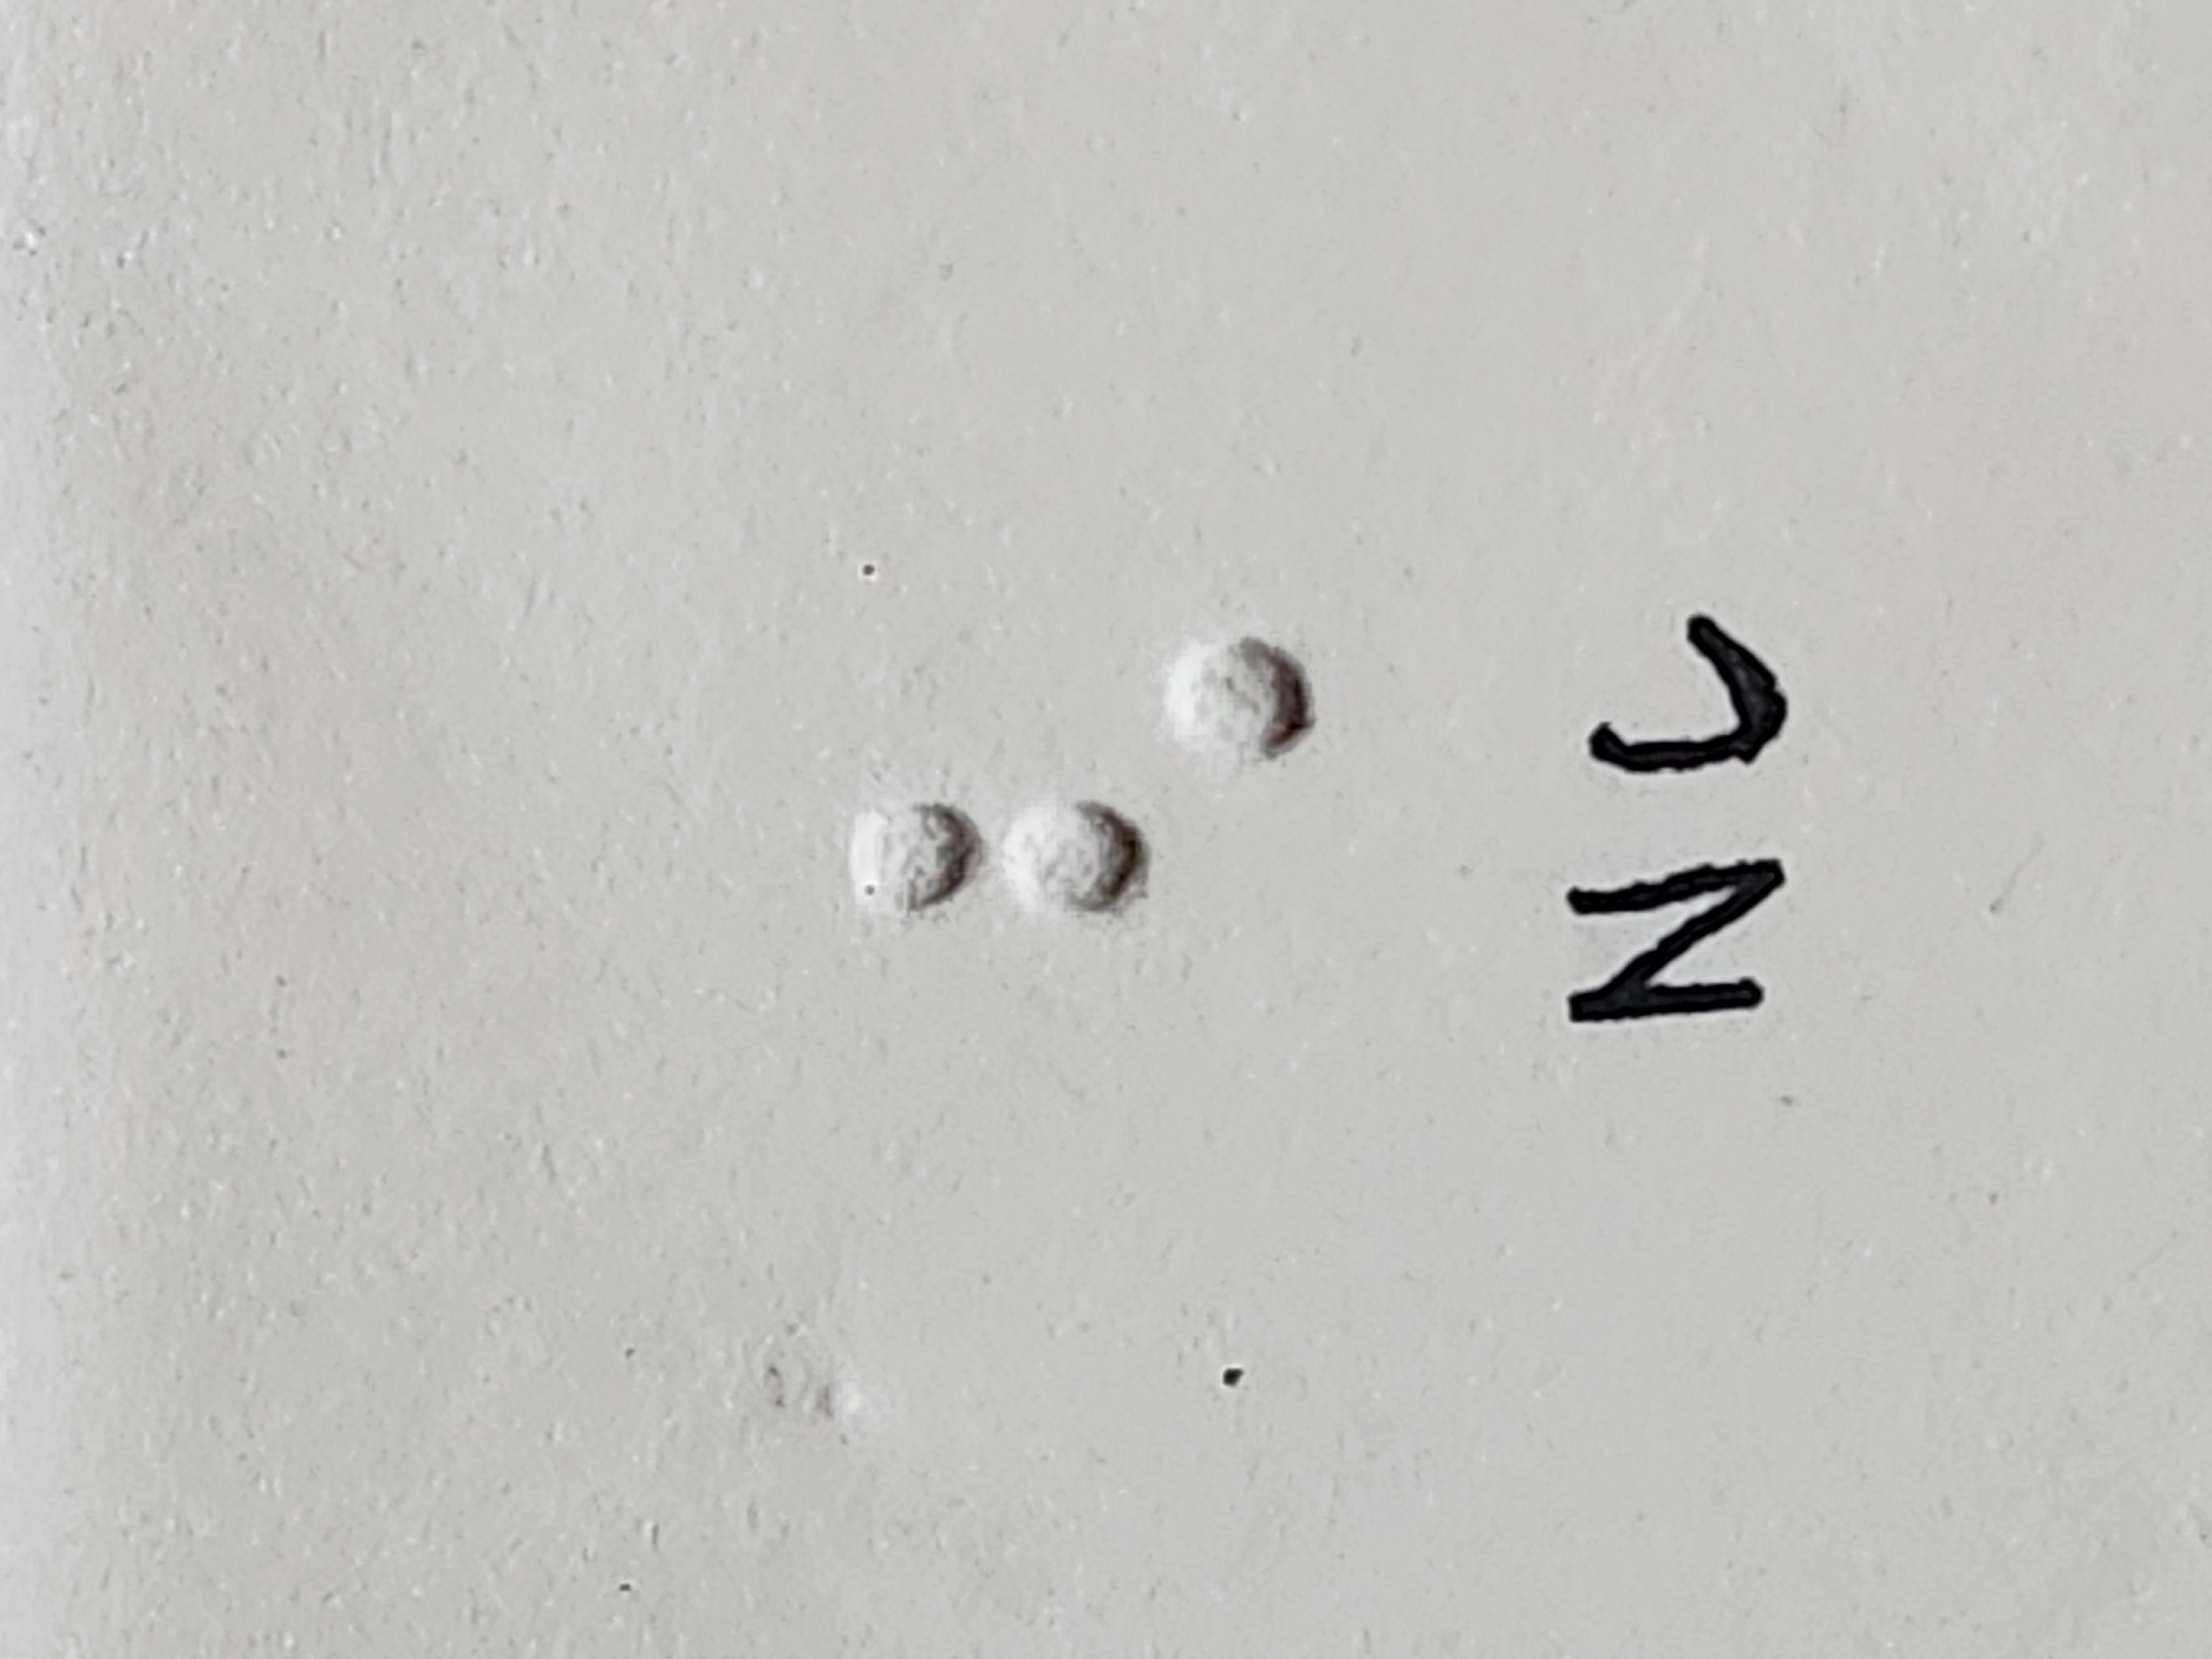one_cell_part_word_ng: (996, 631, 1352, 978)
